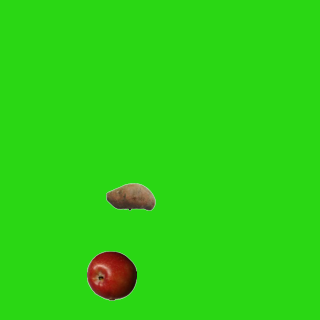Apple Braeburn: (86, 250, 136, 300)
Potato Sweet: (105, 171, 155, 221)
